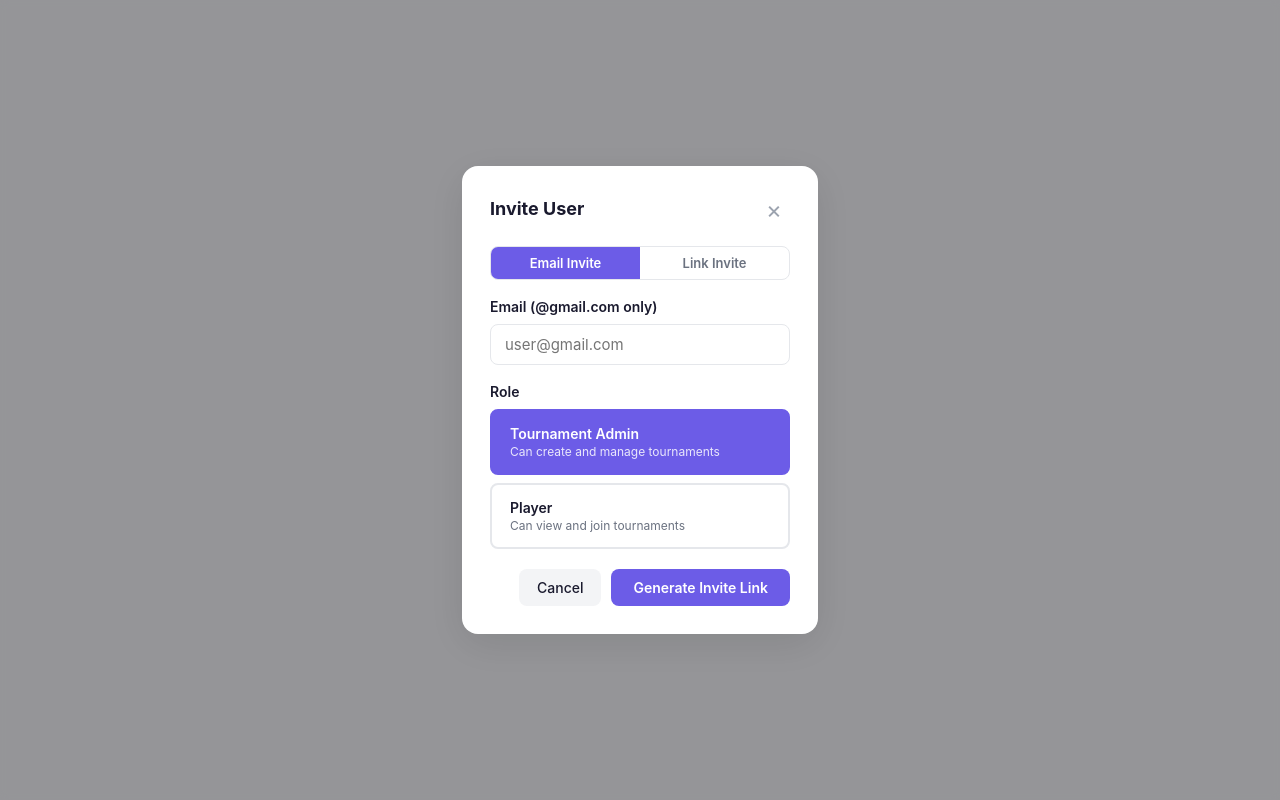
Test: InviteModal › super admin user › shows error on failed email invite generation
The width and height of the screenshot is (1280, 800).
Type "test@gmail.com" into the field with placeholder "user@gmail.com".
click(640, 344); type("test@gmail.com")  # box 490,324 -> 790,365
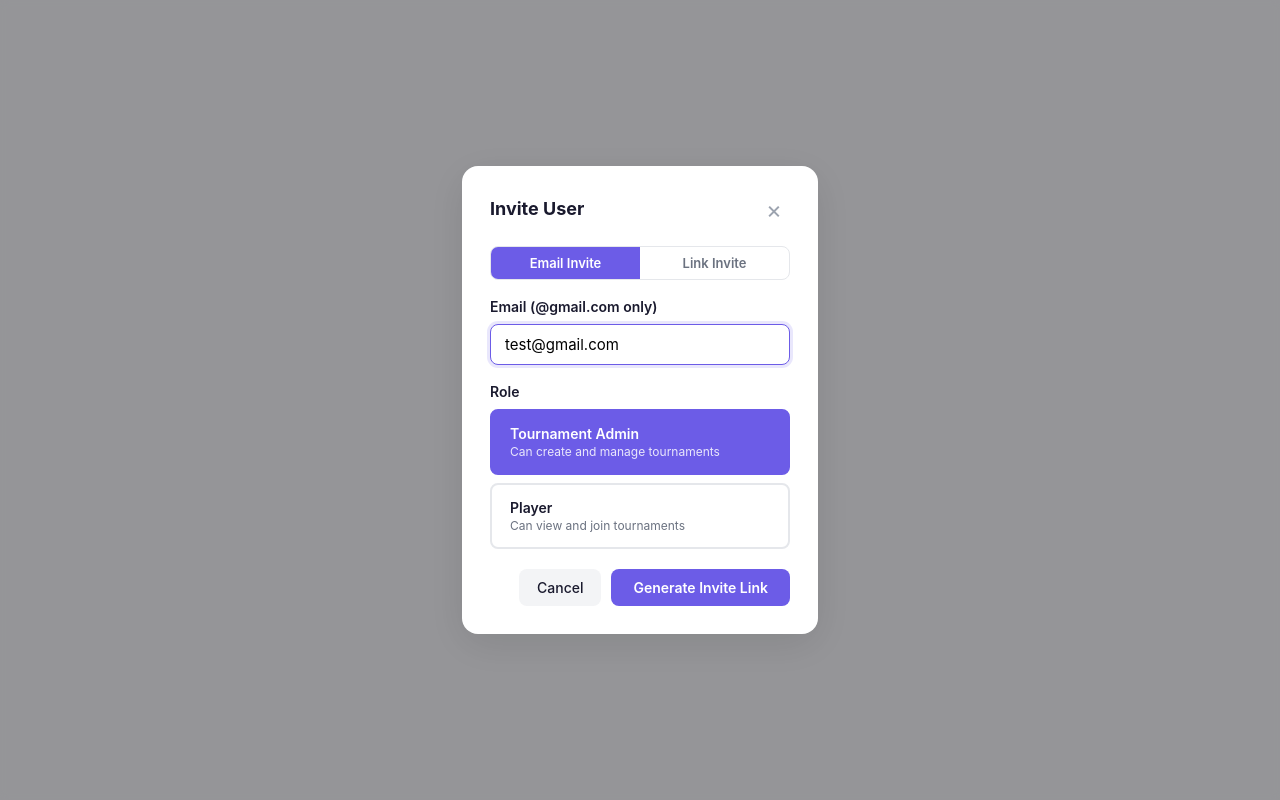
Click the button "Generate Invite Link".
click(701, 588)  # box 612,569 -> 790,606
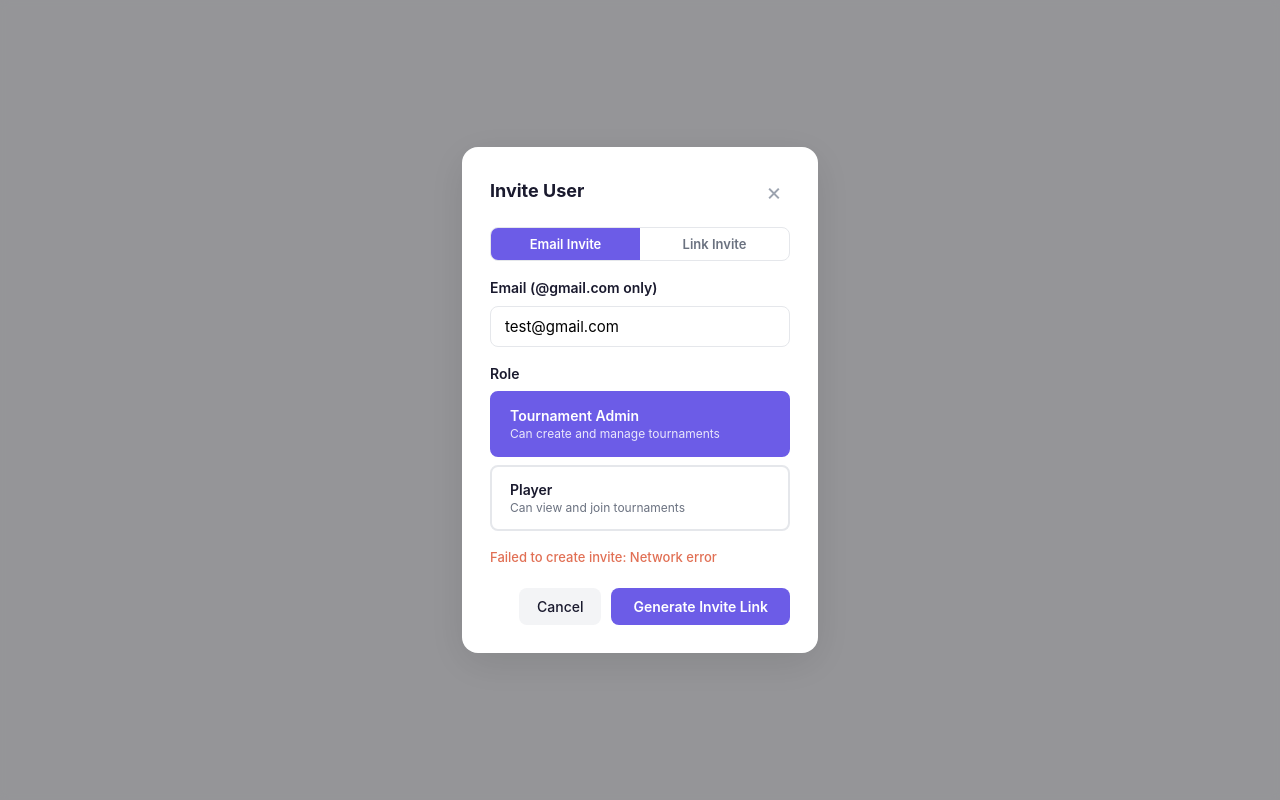
Now the text "Failed to create invite: Network error" is shown, box 490,549 -> 717,565
